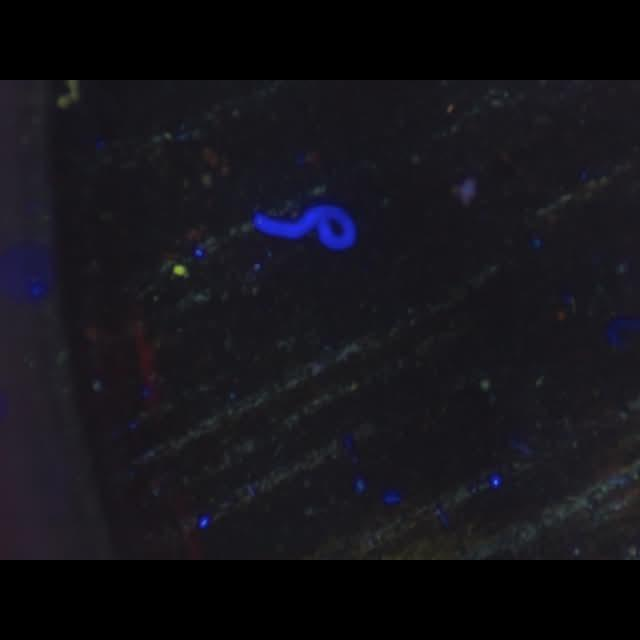microbeads: (174, 264, 186, 276)
